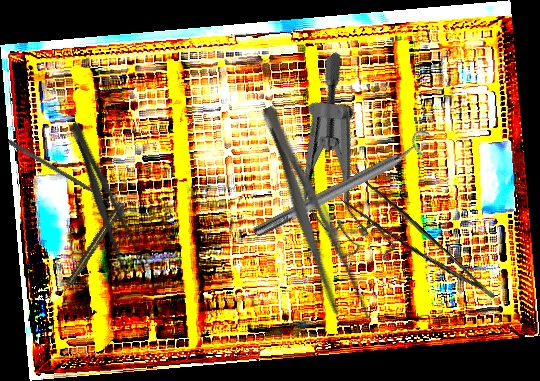Dressing Forceps: (249, 100, 376, 330), (61, 117, 151, 282)
Fixation Ring: (247, 126, 441, 246)
Handpiece: (56, 200, 128, 299)
Pusher: (6, 139, 112, 205)
Speculum: (239, 49, 457, 284)
Tissue Forceps: (331, 165, 496, 322)
